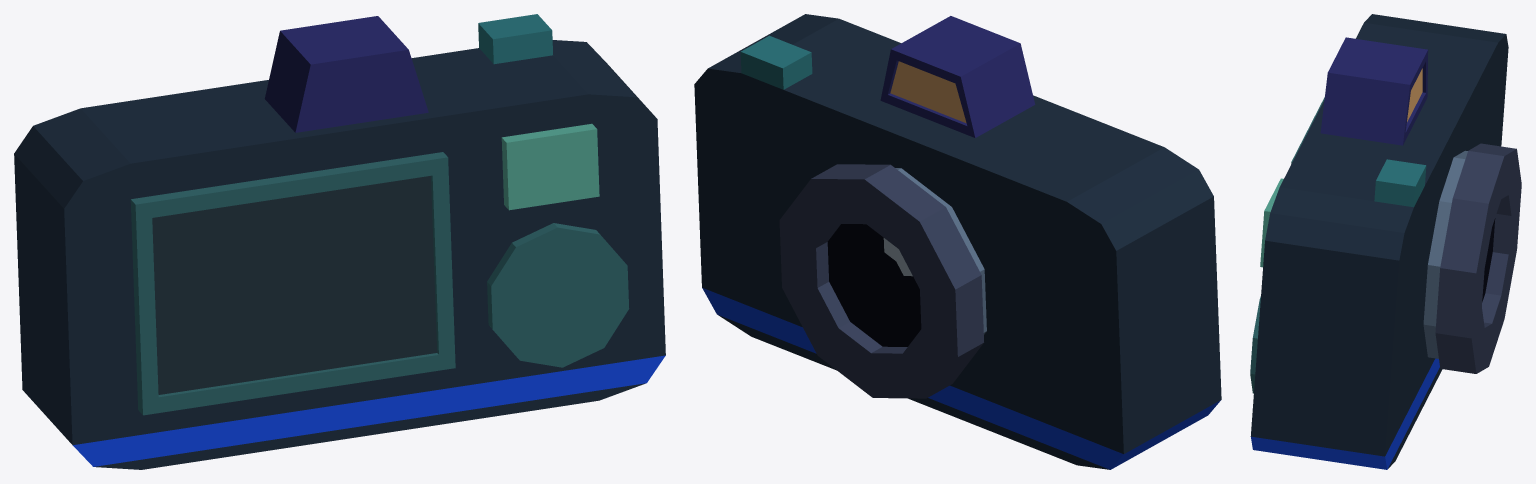
File: camera.fbx
The picture shows the model from 3 angles, left to right: view 1: azimuth 30°, elevation 25°; view 2: azimuth 150°, elevation 25°; view 3: azimuth 270°, elevation 25°; orthographic projection. The views are drawn at different scales.
Visible parts, largest first — view 1: camera; view 2: camera; view 3: camera.
Part boxes in pixels (bbox=[...]): camera: bbox=[14, 14, 665, 469]; camera: bbox=[694, 14, 1221, 469]; camera: bbox=[1250, 14, 1521, 469].
Bounding box in the file's own units: 111 × 71.3 × 55.06.
